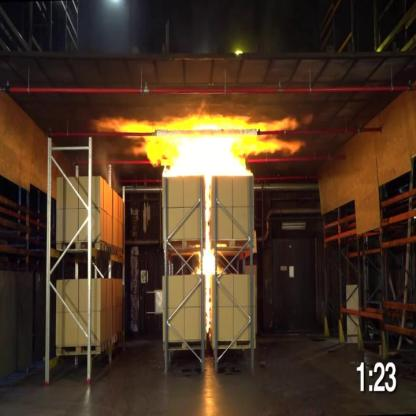fire: (89, 108, 315, 176), (194, 179, 224, 338)
